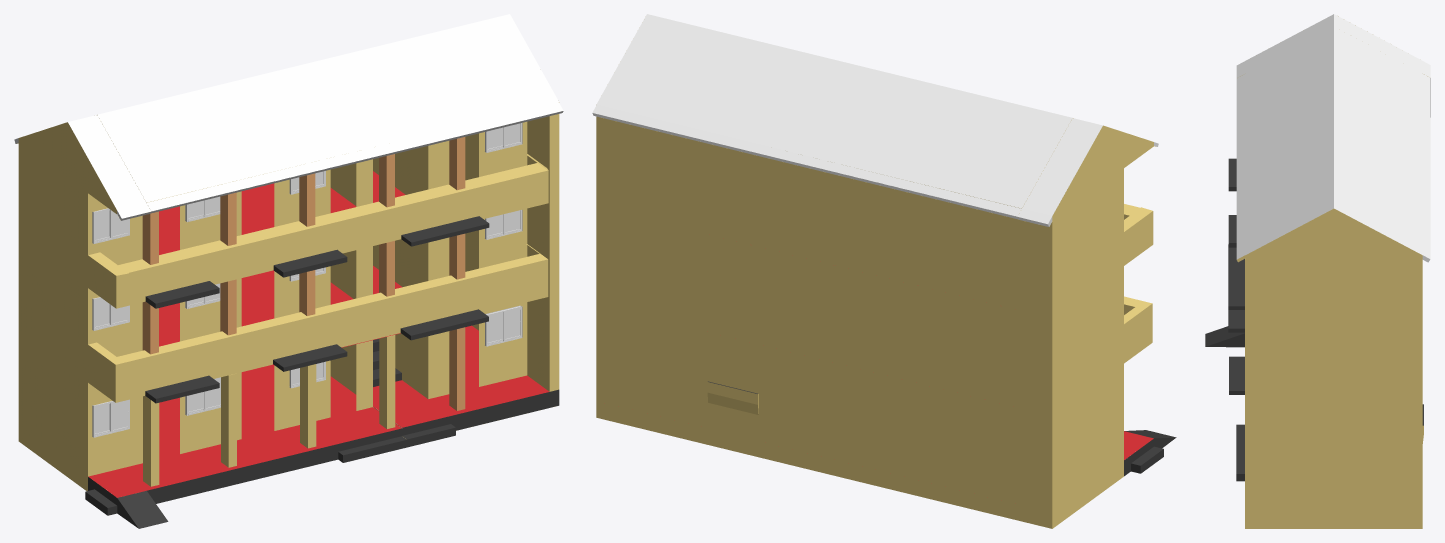
File: ECBlock.glb
3 views of the same model, side by side, from view 1: azimuth 30°, elevation 25°; view 2: azimuth 150°, elevation 25°; view 3: azimuth 270°, elevation 25° (orthographic). The views are drawn at different scales.
Parts seen in each view (by area): view 1: Plane, Window.L.003, Cube.012, Window.R, Window.R.003, Window.L, Cube.001, Cube.005, Cube.006, Cube.009, Cube.007, Cube.003 (+8 smaller); view 2: Plane; view 3: Plane.
Part boxes in pixels (box(x1,y1,x2,y2)): Plane: box(14, 14, 563, 528); Window.L.003: box(94, 209, 110, 435); Cube.012: box(449, 327, 465, 410); Window.R: box(503, 123, 521, 341); Window.R.003: box(110, 210, 128, 432); Window.L: box(487, 127, 503, 344); Cube.001: box(220, 279, 236, 335); Cube.005: box(299, 173, 315, 226); Cube.006: box(220, 192, 236, 245); Cube.009: box(449, 137, 465, 190); Cube.007: box(142, 211, 158, 264); Cube.003: box(379, 241, 394, 296); Plane: box(592, 14, 1176, 528); Plane: box(1205, 14, 1430, 528).
Size of the model in its own units: 108 by 81.19 by 51.67.
